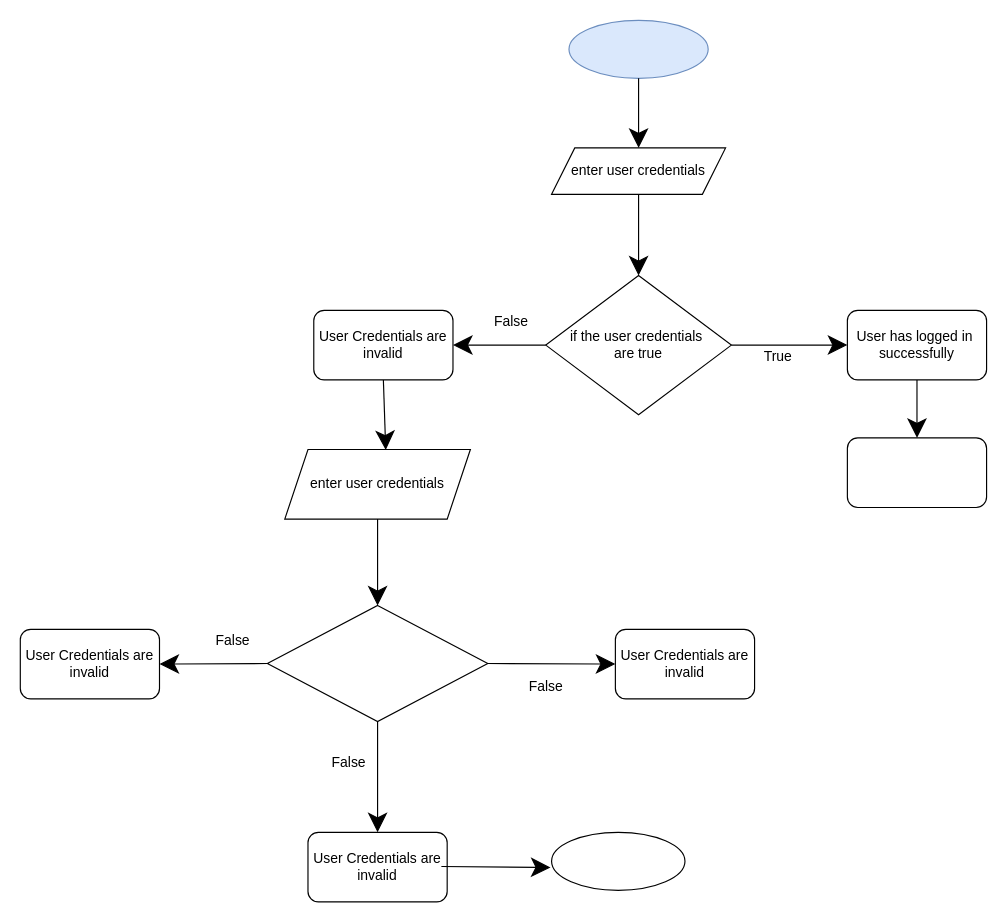
This 1007x922 diagram has some shape labels left out. The shapes that lost their labels are listed below. From the top down, each one's centre as x and y in pixels, then its label:
point (638, 48): start
point (916, 472): Start user interface
point (377, 663): if user credentials are invalid
point (617, 860): End
